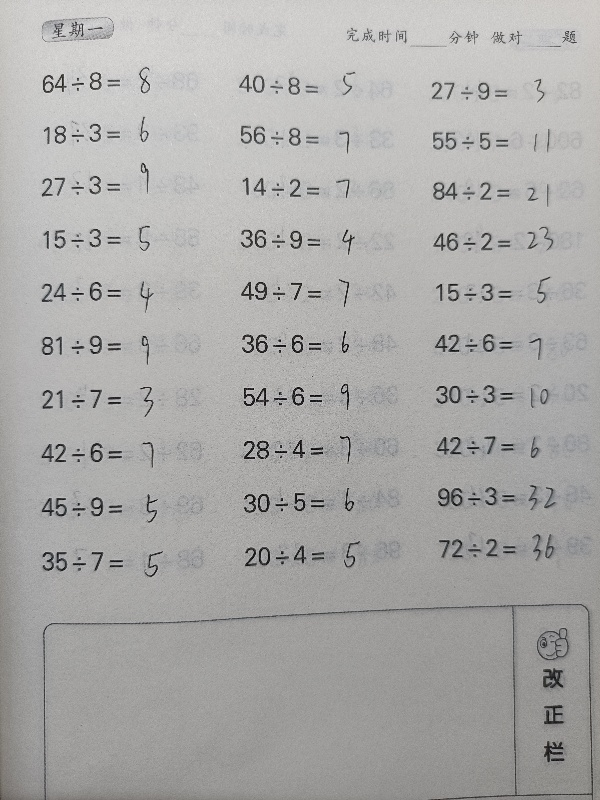equation: (33, 158, 216, 203), (428, 477, 588, 519), (34, 544, 214, 580), (427, 326, 581, 368), (236, 538, 416, 573), (33, 490, 213, 525), (234, 485, 414, 520), (33, 435, 213, 470), (34, 382, 214, 417), (235, 379, 415, 414), (32, 274, 212, 309), (34, 221, 214, 256), (231, 118, 411, 153), (424, 175, 588, 213), (431, 526, 586, 566), (233, 433, 413, 467), (32, 328, 212, 362), (234, 327, 414, 361), (233, 274, 413, 308), (232, 222, 412, 256), (230, 68, 410, 102), (33, 65, 213, 99), (233, 163, 368, 207), (428, 276, 581, 314), (425, 225, 588, 260), (427, 424, 577, 462), (423, 74, 581, 109), (30, 113, 174, 149), (424, 125, 581, 158), (427, 378, 583, 411)
